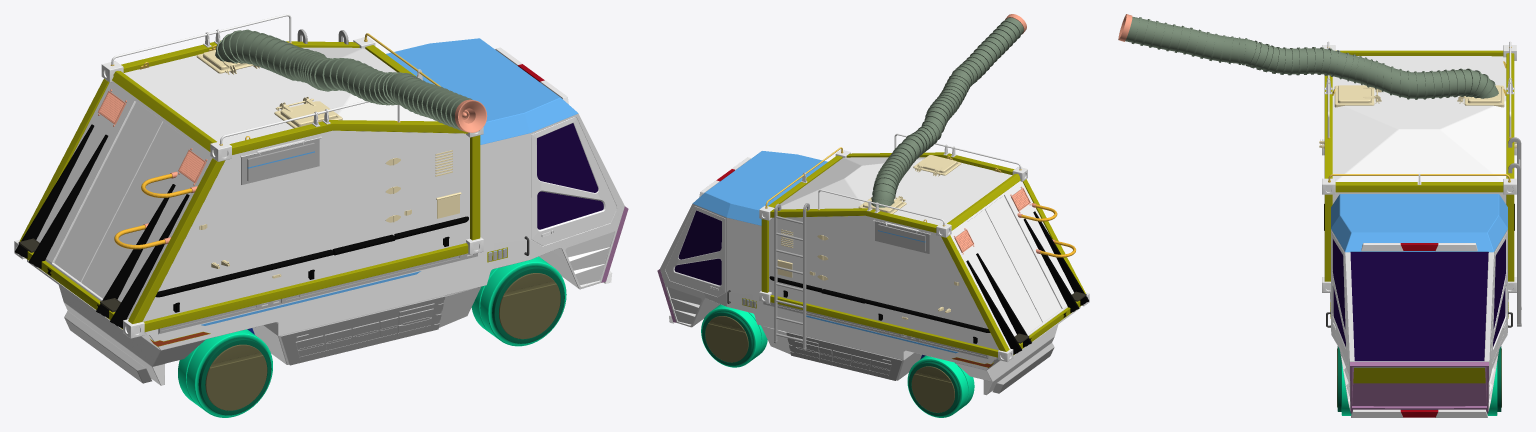
The model's file is SM_GarbageTruck_03.FBX.
3 renders of one model, left to right at view 1: azimuth 30°, elevation 25°; view 2: azimuth 150°, elevation 25°; view 3: azimuth 270°, elevation 25°, orthographic. The views are drawn at different scales.
Parts seen in each view (by area): view 1: SM_GarbageTruck_03; view 2: SM_GarbageTruck_03; view 3: SM_GarbageTruck_03.
Part boxes in pixels (box(x1,y1,x2,y2)): SM_GarbageTruck_03: box(14, 14, 628, 417); SM_GarbageTruck_03: box(657, 14, 1089, 417); SM_GarbageTruck_03: box(1118, 14, 1521, 417).
Bounding box in the file's own units: 698 × 556 × 489.
